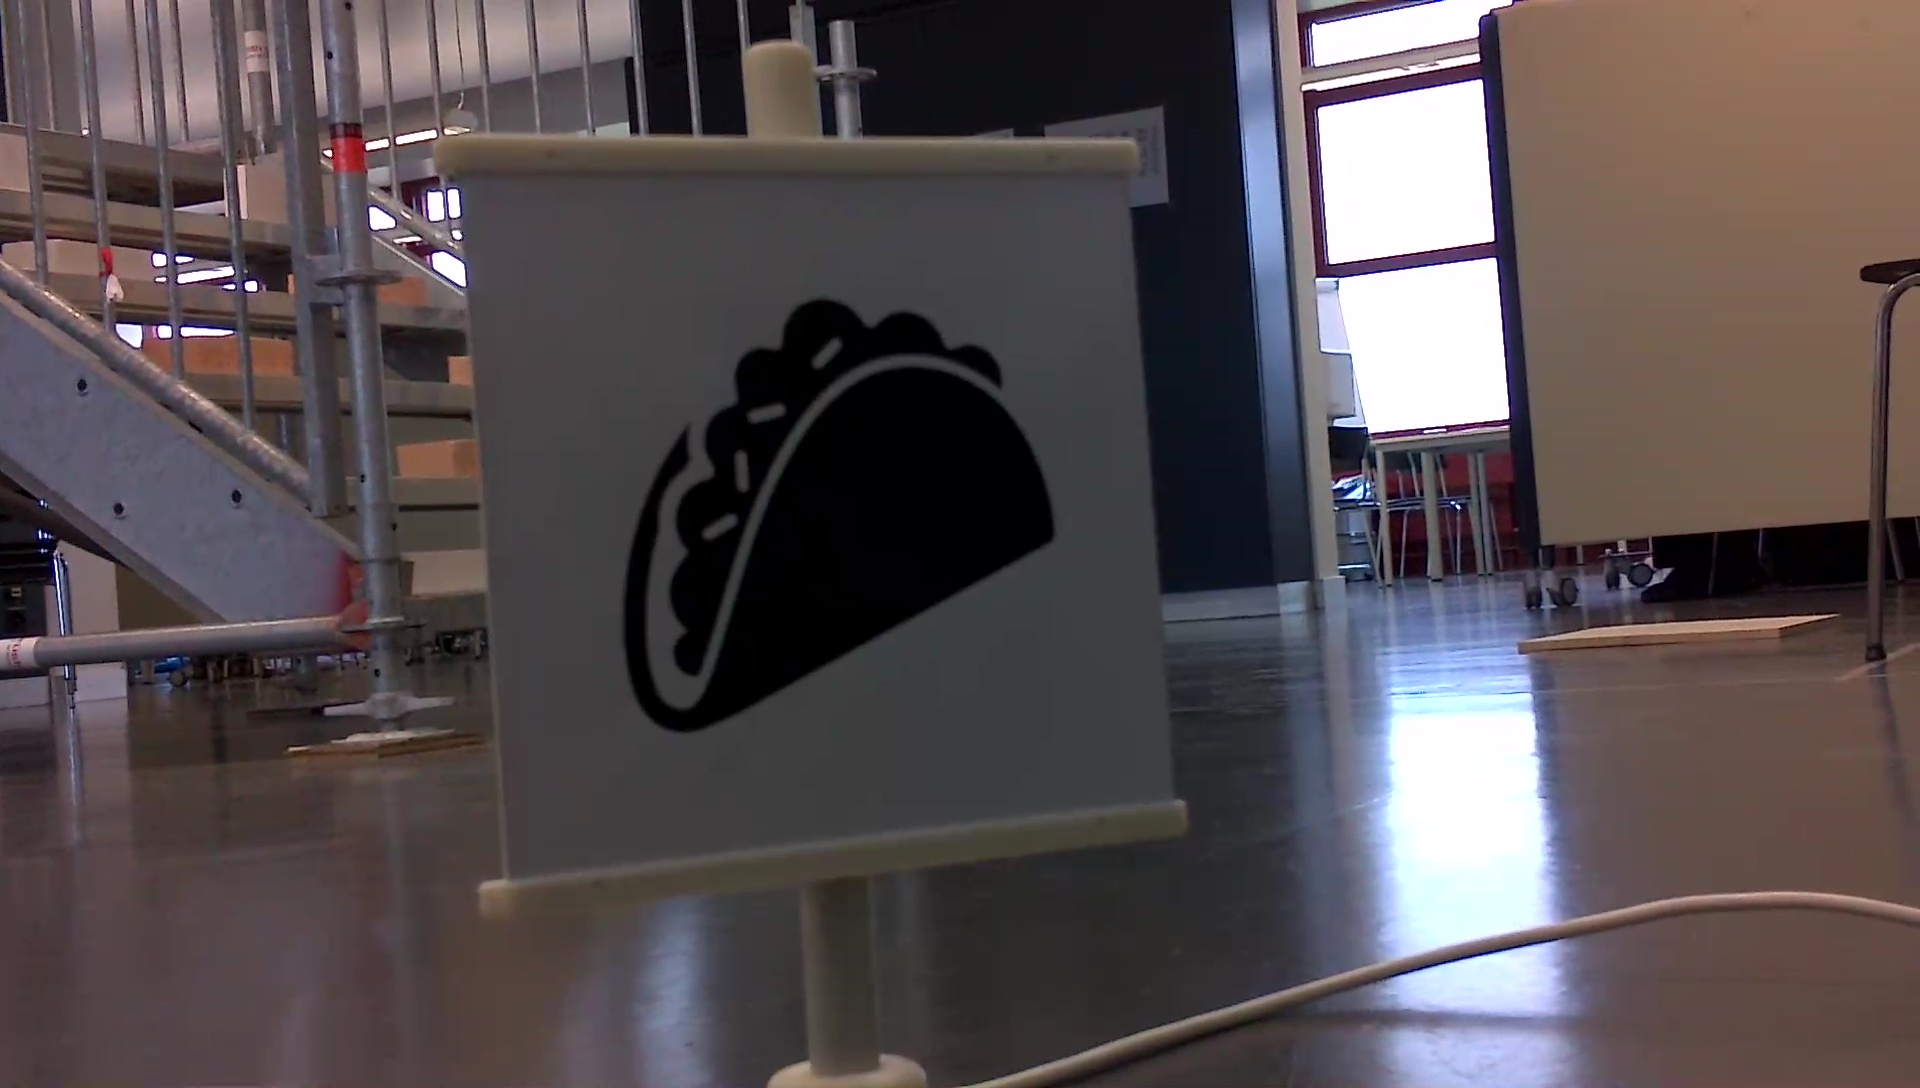brick: (396, 438, 480, 477), (407, 553, 483, 591), (452, 357, 472, 386)
taco: (611, 285, 1071, 745)
